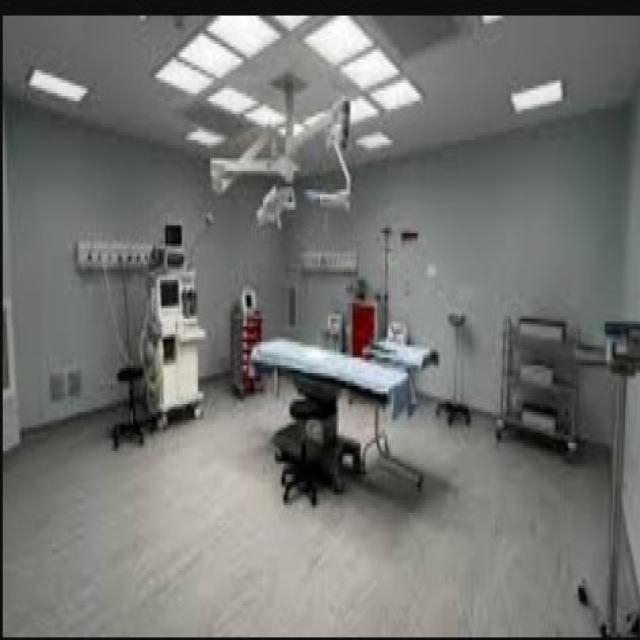Monitor: (156, 267, 186, 324), (160, 210, 190, 254)
bed: (249, 334, 438, 503)
